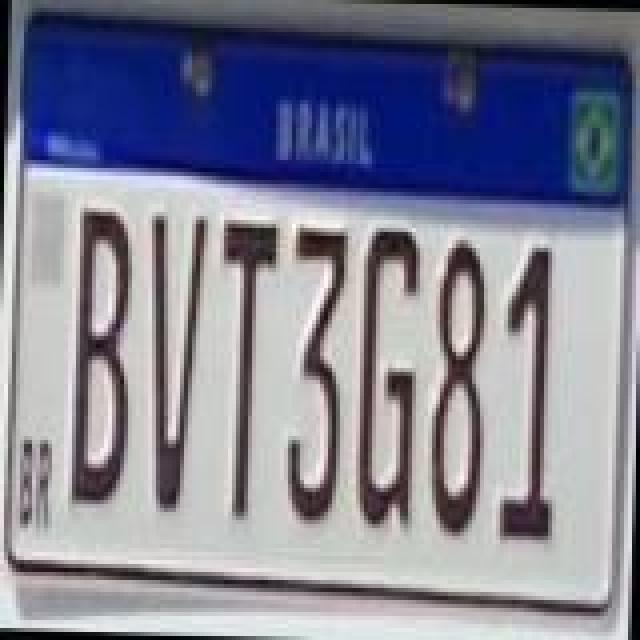1: (494, 240, 562, 544)
3: (282, 220, 350, 532)
8: (428, 232, 492, 536)
B: (70, 204, 138, 508)
G: (356, 224, 420, 536)
T: (212, 216, 284, 520)
V: (142, 208, 210, 512)
